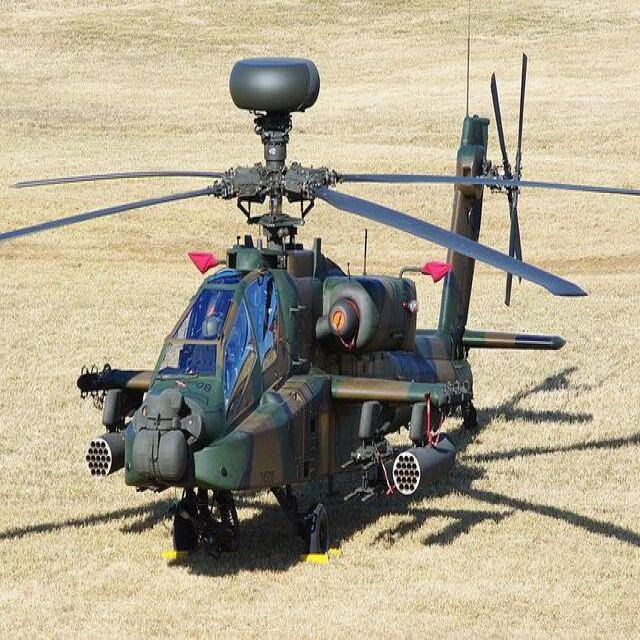MIL_HELO: (10, 51, 640, 570)
